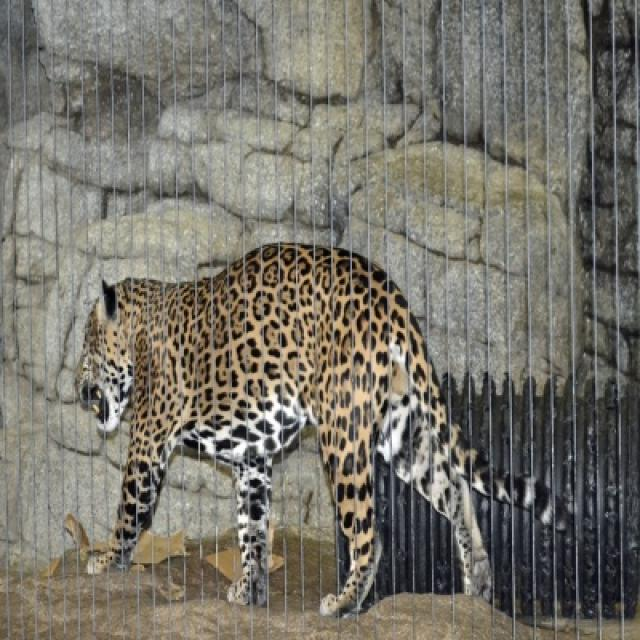Jaguar: (74, 243, 494, 618)
